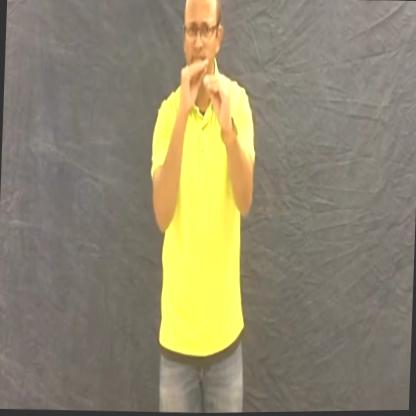Fix: (172, 37, 238, 155)
